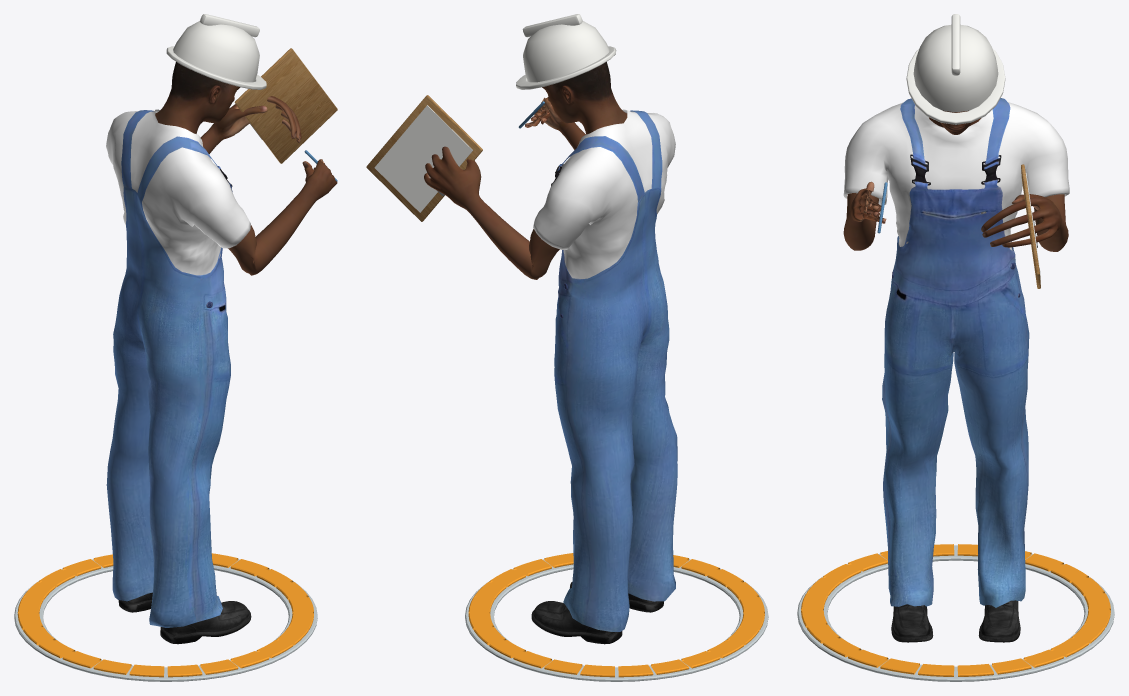
File: MDO-TEC-003.glb
3 views of the same model, side by side, from view 1: azimuth 30°, elevation 25°; view 2: azimuth 150°, elevation 25°; view 3: azimuth 270°, elevation 25° (orthographic). The views are drawn at different scales.
Visible parts, largest first — view 1: MDO-TEC-003_pessoa_male_worksuit01, MDO-TEC-003_pessoa, MDO-TEC-003_ferE_prancheta, MDO-TEC-003_capacete, MDO-TEC-003_anel_fundo, MDO-TEC-003_pessoa_shoes04, MDO-TEC-003_capacete_aba, MDO-TEC-003_capacete_friso; view 2: MDO-TEC-003_pessoa_male_worksuit01, MDO-TEC-003_pessoa, MDO-TEC-003_ferE_folha, MDO-TEC-003_capacete, MDO-TEC-003_anel_fundo, MDO-TEC-003_pessoa_shoes04, MDO-TEC-003_ferE_prancheta, MDO-TEC-003_capacete_aba; view 3: MDO-TEC-003_pessoa_male_worksuit01, MDO-TEC-003_capacete, MDO-TEC-003_pessoa, MDO-TEC-003_anel_fundo, MDO-TEC-003_pessoa_shoes04, MDO-TEC-003_capacete_aba, MDO-TEC-003_ferE_prancheta, MDO-TEC-003_capacete_friso.
Boxes of the visible parts, bbox=[...] form: MDO-TEC-003_pessoa_male_worksuit01: bbox=[106, 109, 250, 627]; MDO-TEC-003_pessoa: bbox=[155, 62, 337, 275]; MDO-TEC-003_ferE_prancheta: bbox=[234, 48, 337, 163]; MDO-TEC-003_capacete: bbox=[173, 21, 259, 82]; MDO-TEC-003_anel_fundo: bbox=[14, 559, 317, 681]; MDO-TEC-003_pessoa_shoes04: bbox=[118, 592, 251, 644]; MDO-TEC-003_capacete_aba: bbox=[166, 46, 266, 89]; MDO-TEC-003_capacete_friso: bbox=[200, 14, 259, 37]; MDO-TEC-003_pessoa_male_worksuit01: bbox=[533, 109, 677, 631]; MDO-TEC-003_pessoa: bbox=[424, 62, 627, 279]; MDO-TEC-003_ferE_folha: bbox=[374, 105, 472, 212]; MDO-TEC-003_capacete: bbox=[523, 21, 609, 82]; MDO-TEC-003_anel_fundo: bbox=[465, 559, 768, 681]; MDO-TEC-003_pessoa_shoes04: bbox=[531, 582, 663, 644]; MDO-TEC-003_ferE_prancheta: bbox=[366, 95, 482, 221]; MDO-TEC-003_capacete_aba: bbox=[516, 46, 616, 89]; MDO-TEC-003_pessoa_male_worksuit01: bbox=[843, 98, 1069, 607]; MDO-TEC-003_capacete: bbox=[913, 24, 998, 112]; MDO-TEC-003_pessoa: bbox=[843, 110, 1068, 251]; MDO-TEC-003_anel_fundo: bbox=[797, 545, 1114, 681]; MDO-TEC-003_pessoa_shoes04: bbox=[891, 600, 1020, 642]; MDO-TEC-003_capacete_aba: bbox=[906, 48, 1005, 124]; MDO-TEC-003_ferE_prancheta: bbox=[1021, 164, 1040, 288]; MDO-TEC-003_capacete_friso: bbox=[951, 14, 960, 75].
Bounding box in the file's own units: 1.09 × 1.82 × 0.84.
12 materials, 6 textured.
